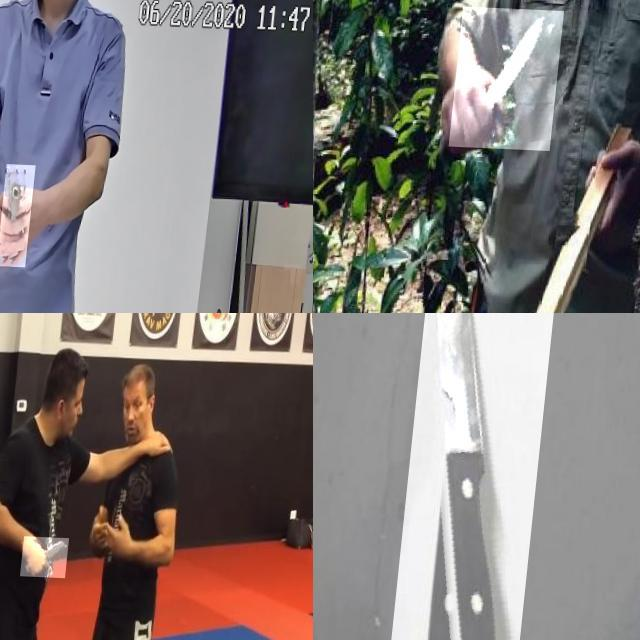-: (393, 313, 570, 640), (458, 5, 571, 148), (28, 533, 78, 575)
gun-knife-thesis - v11 Yolov5 augmented: (2, 161, 40, 264)
